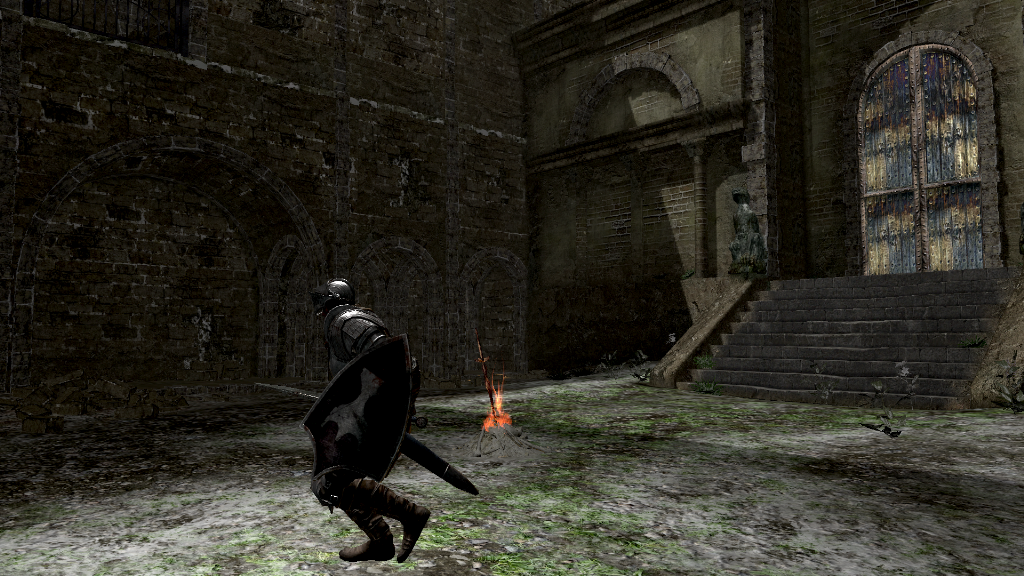bonfire: (467, 326, 528, 442)
player: (251, 274, 432, 565)
